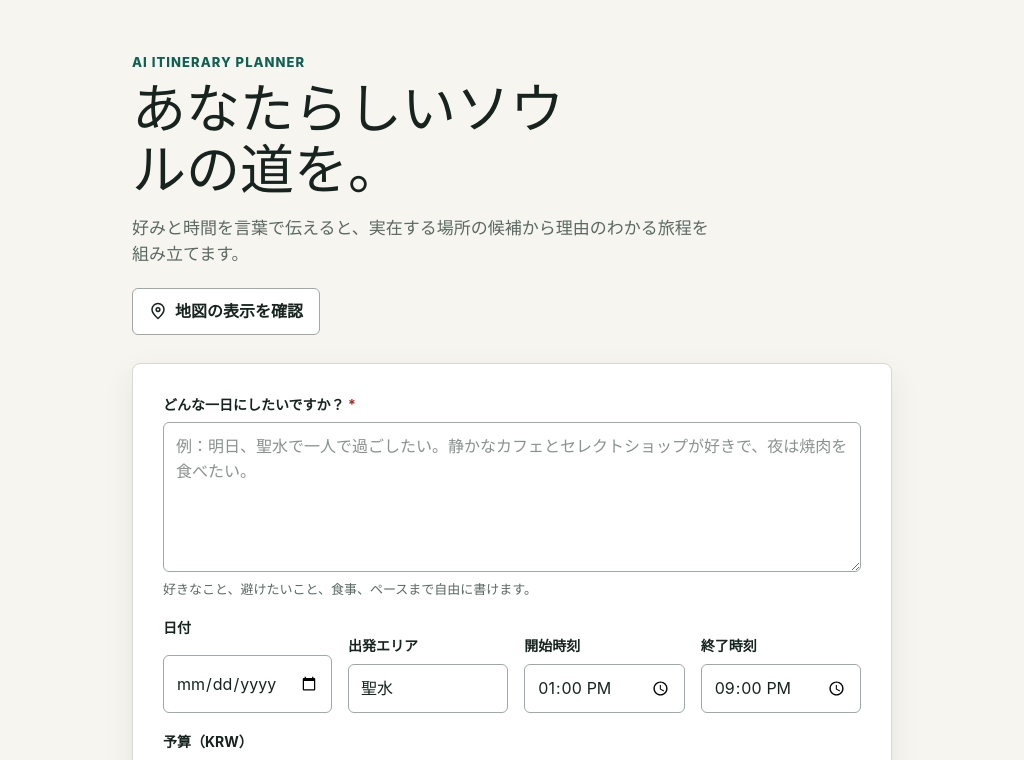
Scenario: trip planner flow › associates a time-window error with the time inputs
The image size is (1024, 760).
Type "静かなカフェを一人でゆっくり巡りたいです。" into the text box labelled "どんな一日にしたいですか？ *" at (512, 497), box [163, 422, 861, 572]
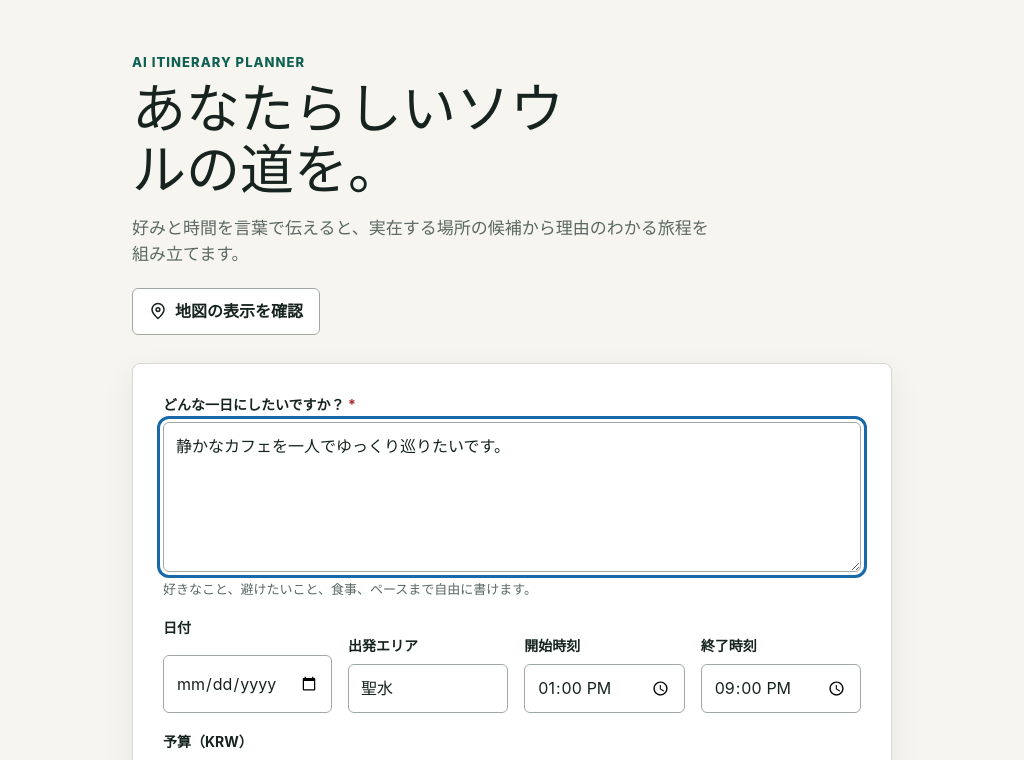
Replace the text in the time field labelled "終了時刻" with "12:00" at (781, 688), box [701, 664, 861, 713]
(page scrolled)
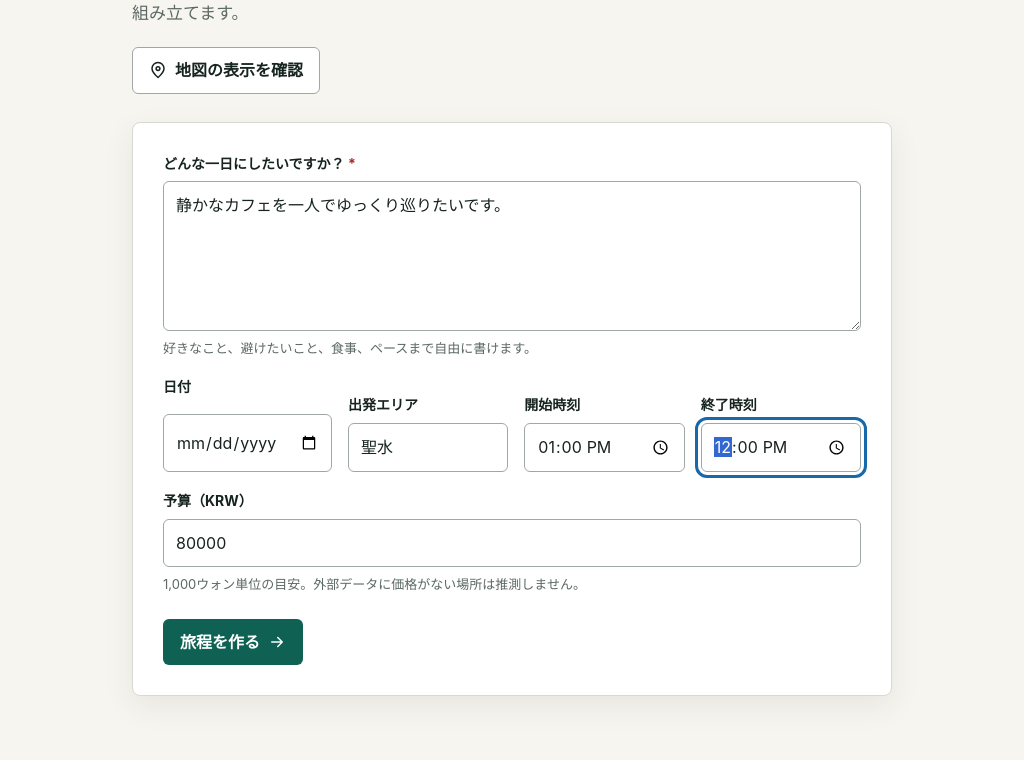
Click the button "旅程を作る" at (233, 642), box [163, 618, 303, 665]
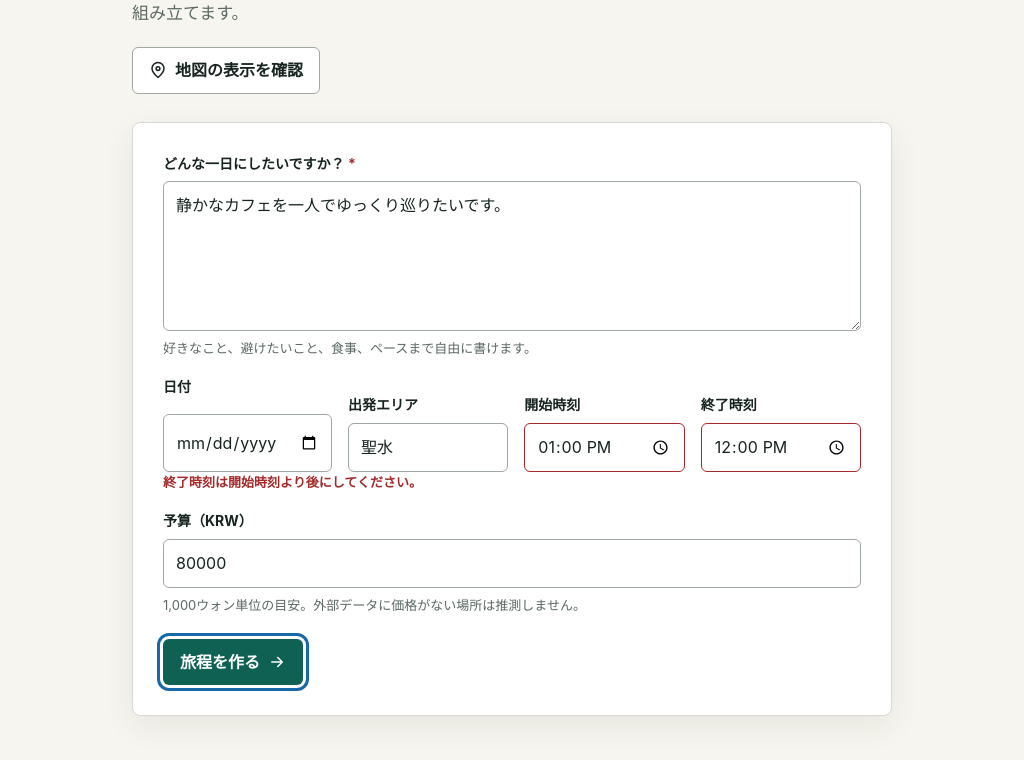
Result: the message reads "終了時刻は開始時刻より後にしてください。" at [163, 474, 422, 490]
